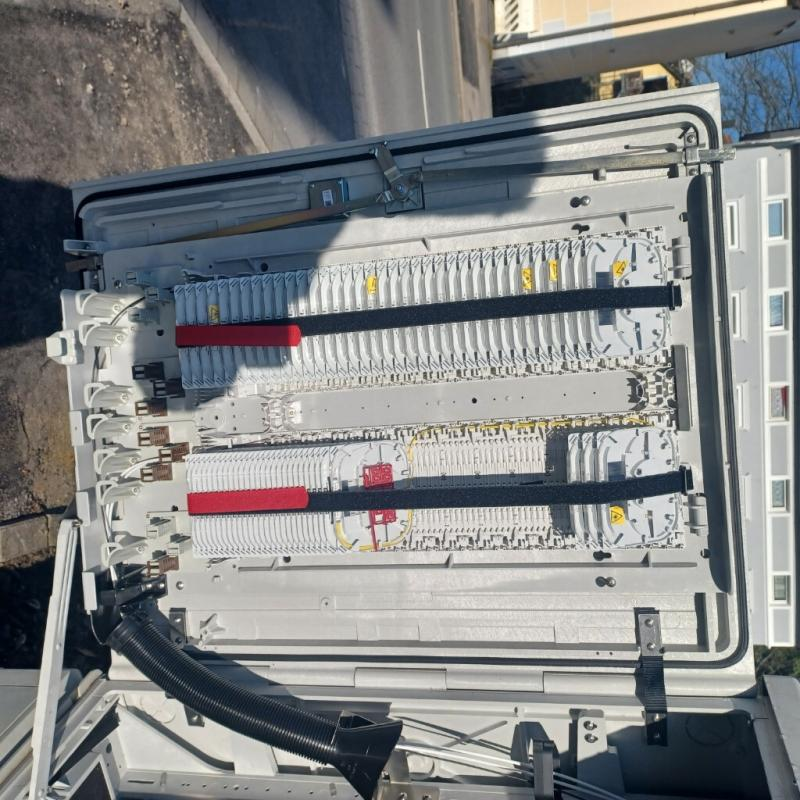NT-Gehause: (0, 87, 800, 795)
Spleiskassetten: (167, 233, 675, 397), (178, 413, 689, 564)
